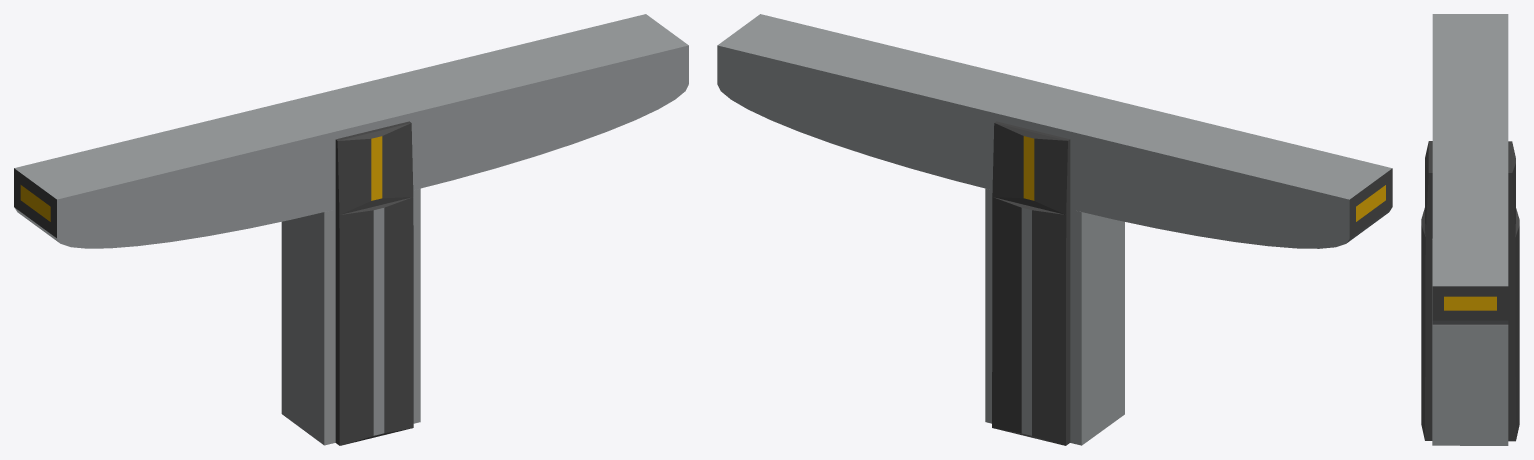
The model's file is BeltBaseModel.fbx.
3 views of the same model, side by side, from view 1: azimuth 30°, elevation 25°; view 2: azimuth 150°, elevation 25°; view 3: azimuth 270°, elevation 25° (orthographic). The views are drawn at different scales.
Visible parts, largest first — view 1: Cube; view 2: Cube; view 3: Cube.
Part boxes in pixels (x1,y1,x2,y2): Cube: [14, 14, 688, 445]; Cube: [717, 14, 1392, 445]; Cube: [1421, 14, 1519, 445].
Size of the model in its own units: 170 by 80 by 26.
